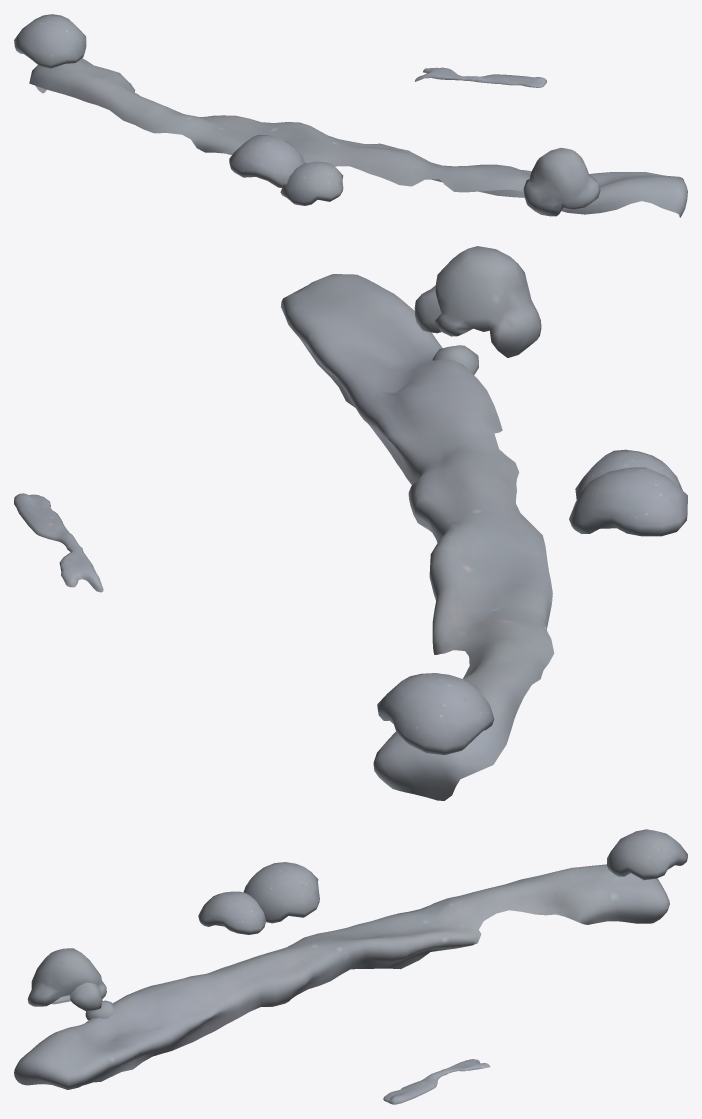
Rendered from pref_sm_beach_plantsnowR02_lv3.fbx.
The picture shows the model from 3 angles, top to bottom: view 1: azimuth 30°, elevation 25°; view 2: azimuth 150°, elevation 25°; view 3: azimuth 270°, elevation 25°; orthographic projection. The views are drawn at different scales.
Visible parts, largest first — view 1: pref_sm_beach_plantsnowR02_lv3; view 2: pref_sm_beach_plantsnowR02_lv3; view 3: pref_sm_beach_plantsnowR02_lv3.
Part boxes in pixels (left/top/right/bottom): pref_sm_beach_plantsnowR02_lv3: left=14, top=14, right=687, bottom=217; pref_sm_beach_plantsnowR02_lv3: left=14, top=246, right=687, bottom=800; pref_sm_beach_plantsnowR02_lv3: left=14, top=829, right=687, bottom=1104.
Bounding box in the file's own units: 17.57 × 3.53 × 23.3.
